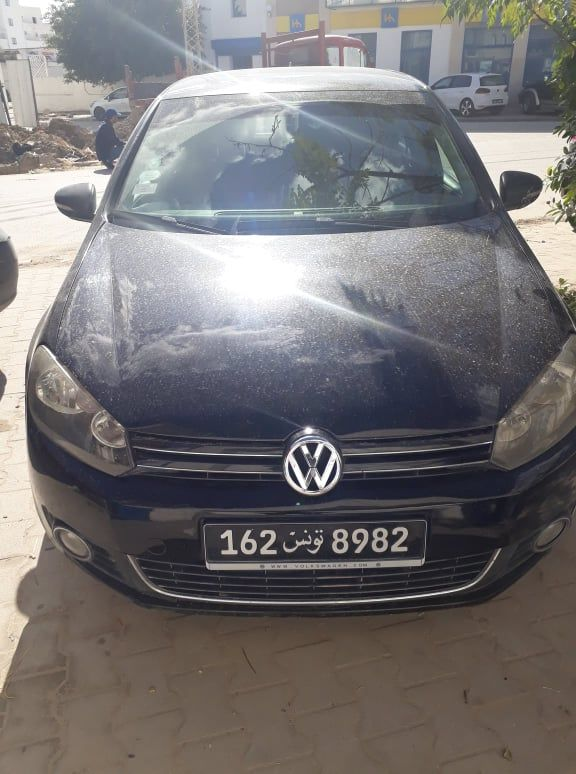LP: (200, 520, 432, 567)
